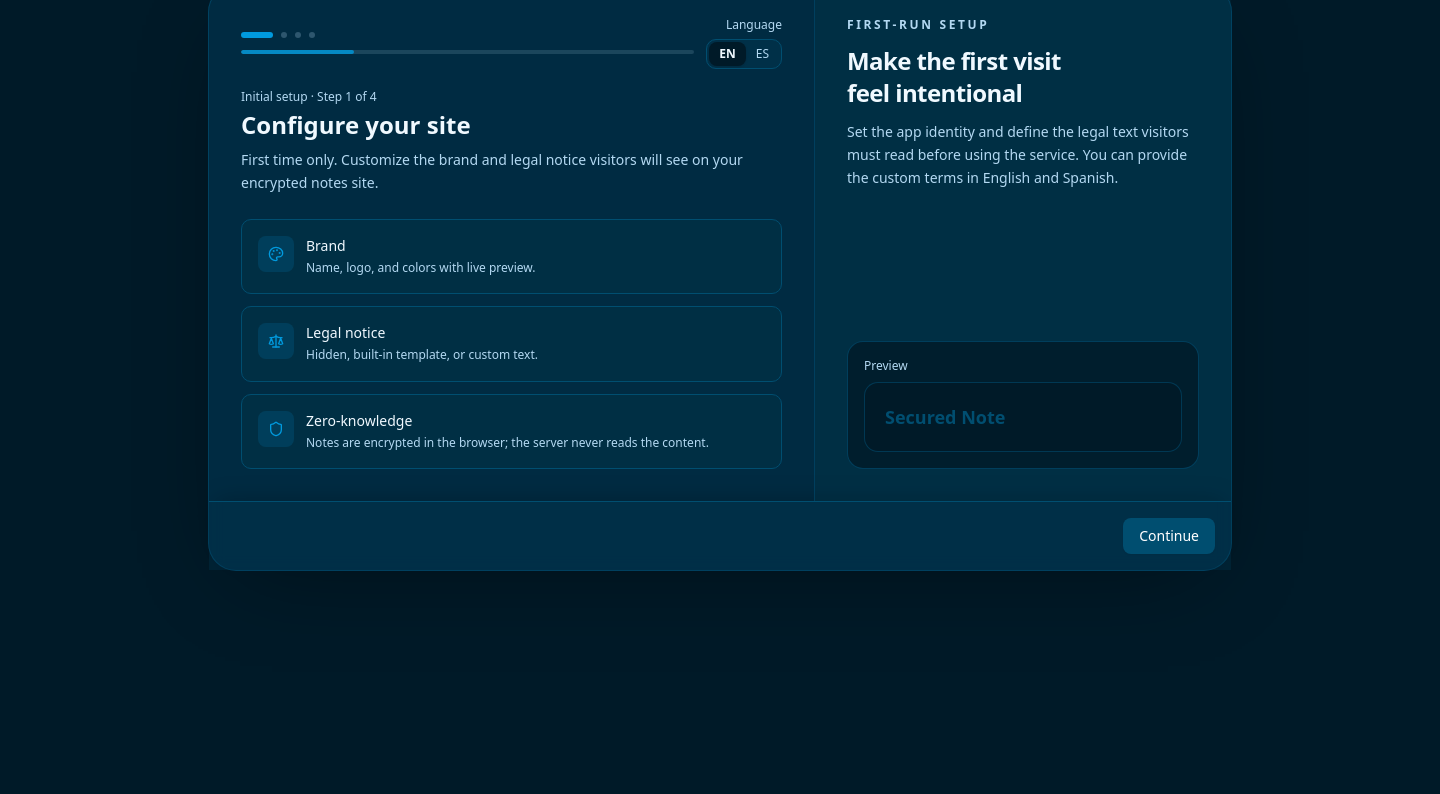
Scenario: ProjectSetupModal › navigates back from brand and legal steps
Click the button "Continue". click: (1169, 536)
box: [1123,518,1215,554]
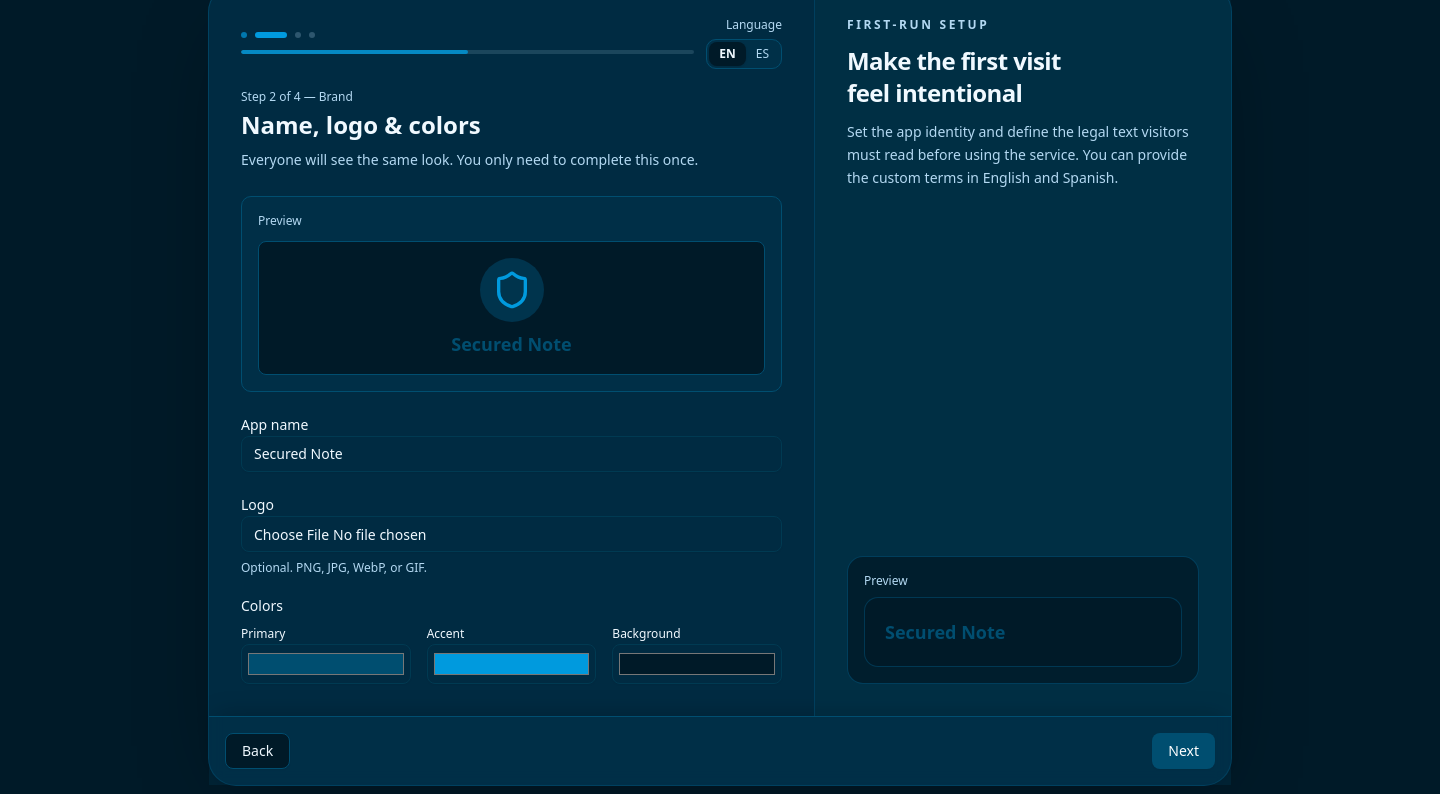
Replace the text in the field labelled "App name" with "My Site". click: (512, 454)
box: [241,436,782,472]
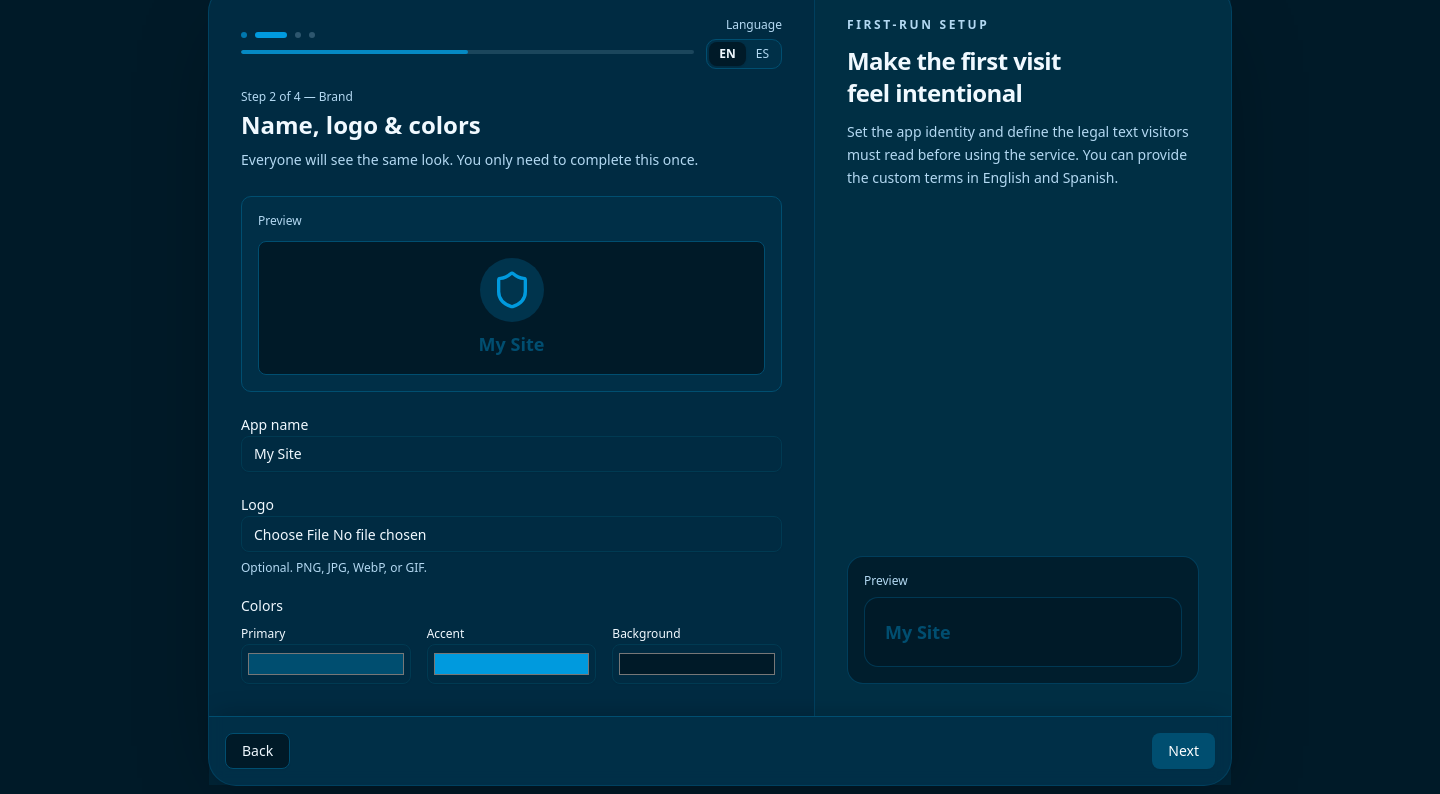
Click the button "Next". click: (1184, 751)
box: [1152,733,1215,769]
(page scrolled)
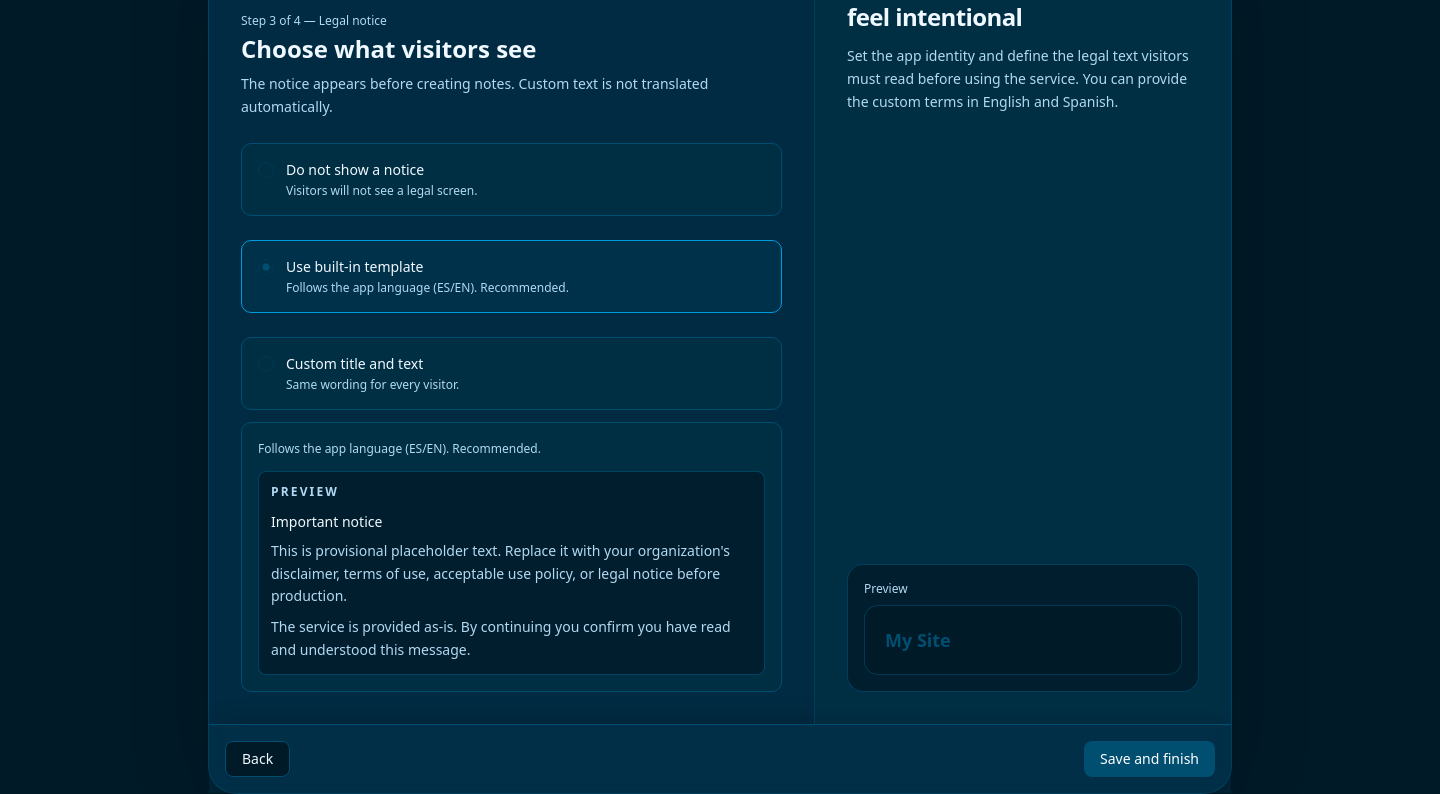
Click the button "Back". click: (258, 758)
box: [225,740,290,776]
(page scrolled)
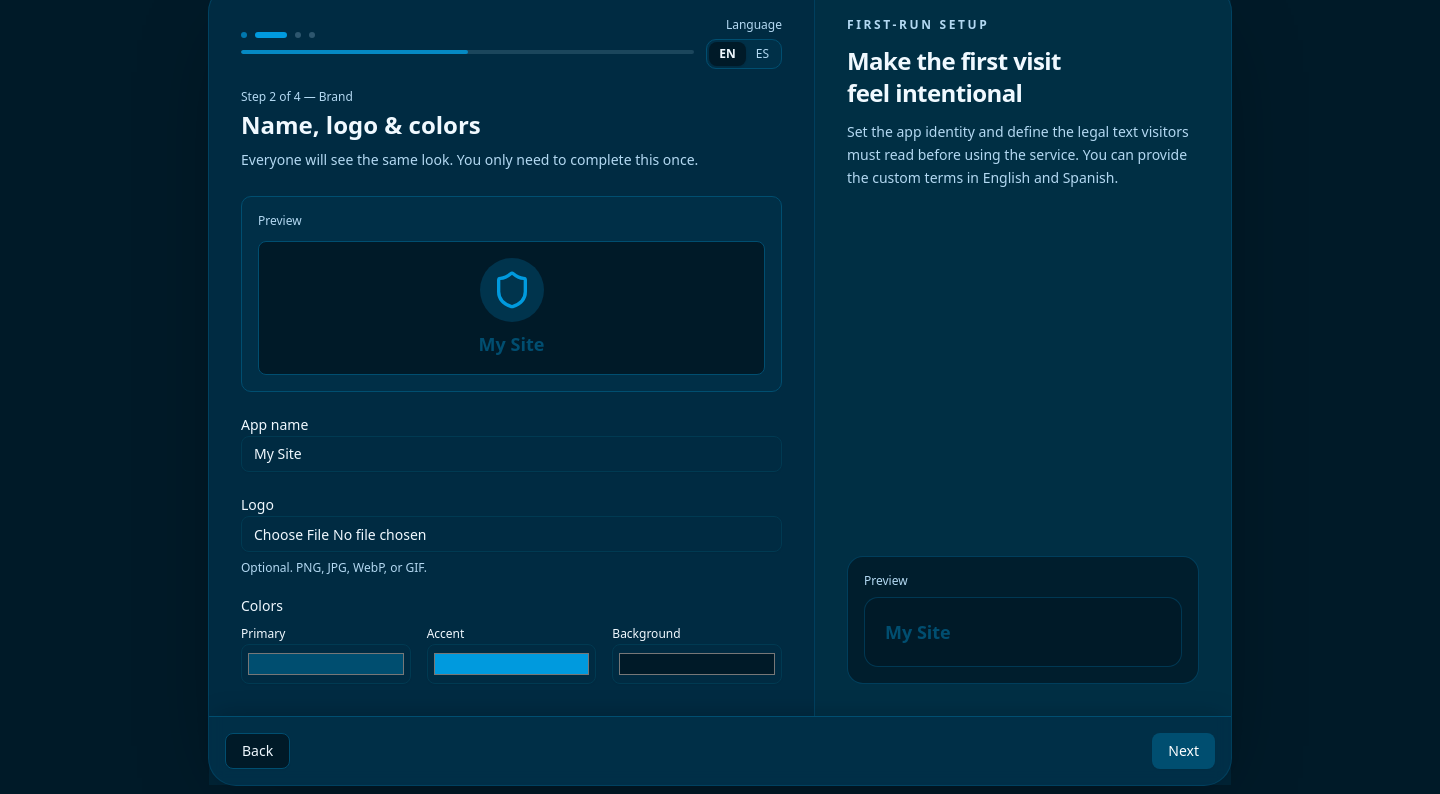
Now the field labelled "App name" is shown, box [241,436,782,472]
Click the button "Back". click: (258, 751)
box: [225,733,290,769]
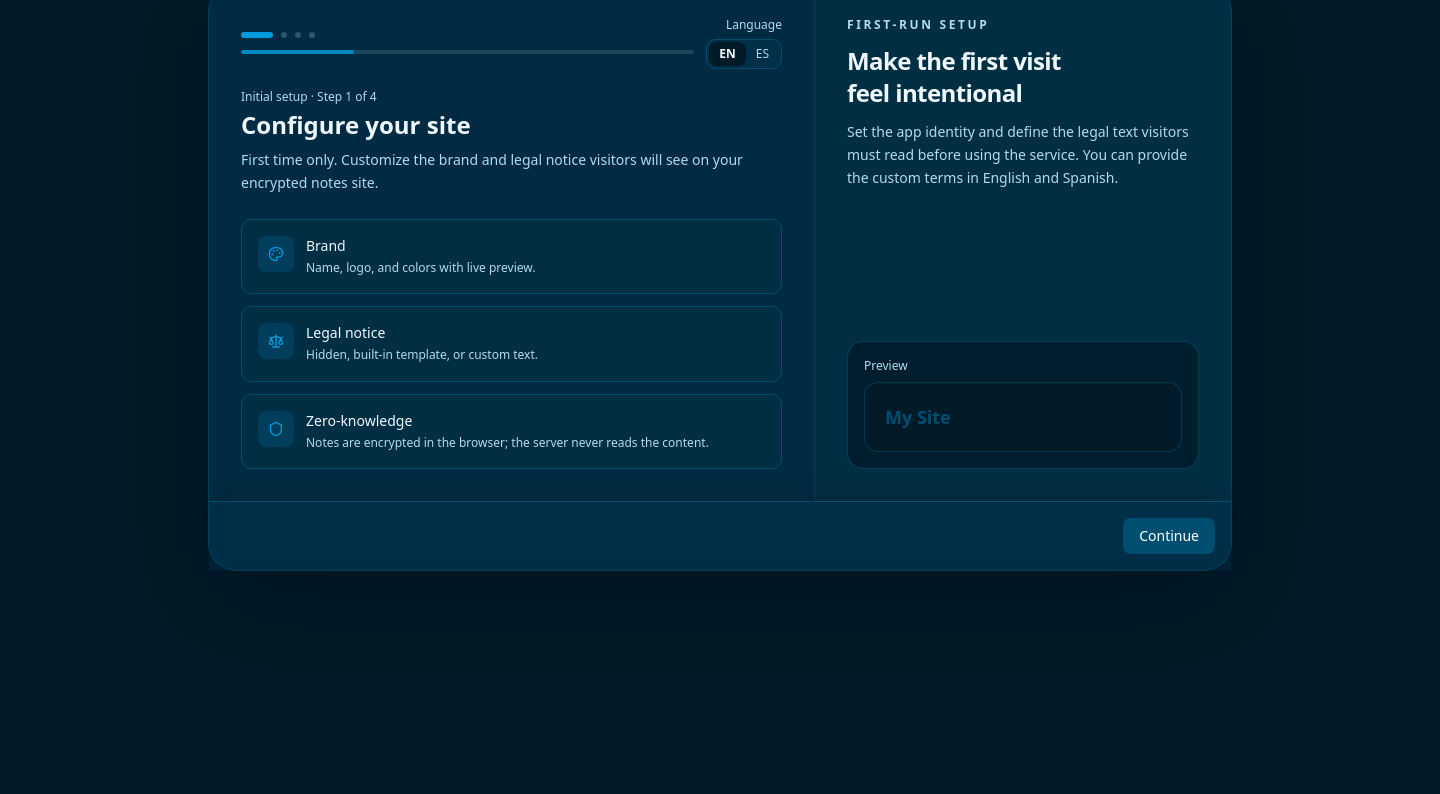
Now the button "Continue" is shown, box [1123,518,1215,554]
